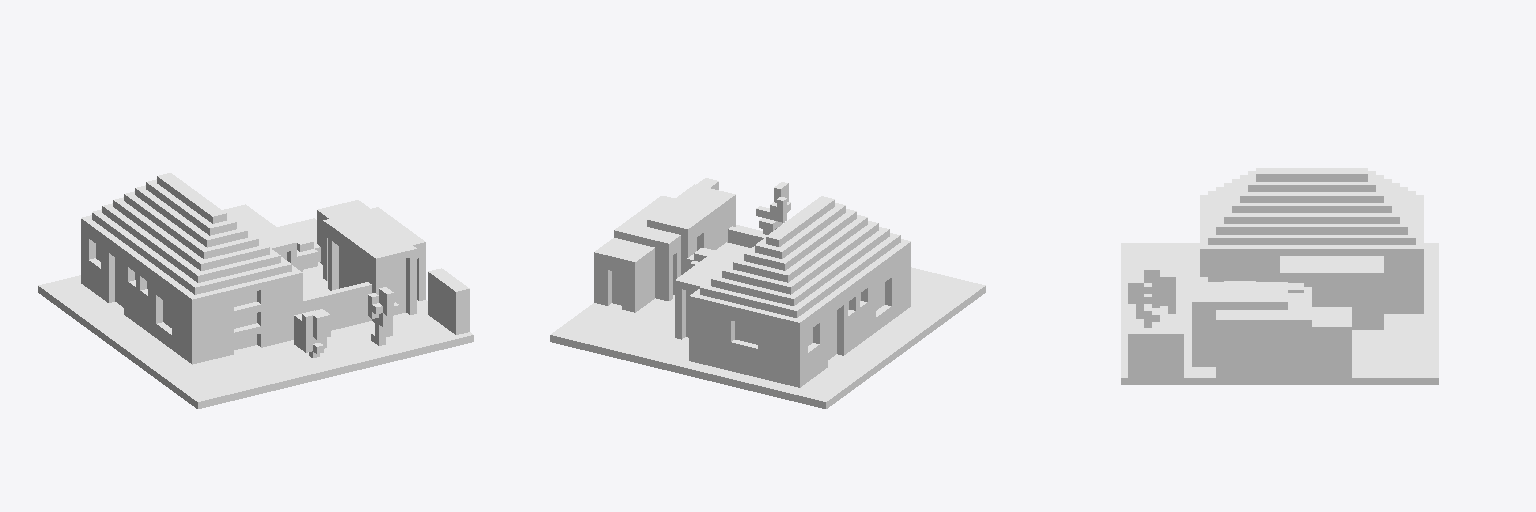
Rendered from KrestenHus.obj.
3 views of the same model, side by side, from view 1: azimuth 30°, elevation 25°; view 2: azimuth 150°, elevation 25°; view 3: azimuth 270°, elevation 25° (orthographic).
Parts seen in each view (by area): view 1: object 1; view 2: object 1; view 3: object 1.
Part boxes in pixels (bbox=[...]): object 1: bbox=[38, 173, 473, 408]; object 1: bbox=[550, 178, 985, 408]; object 1: bbox=[1121, 168, 1438, 384].
Size of the model in its own units: 4 by 1.7 by 4.